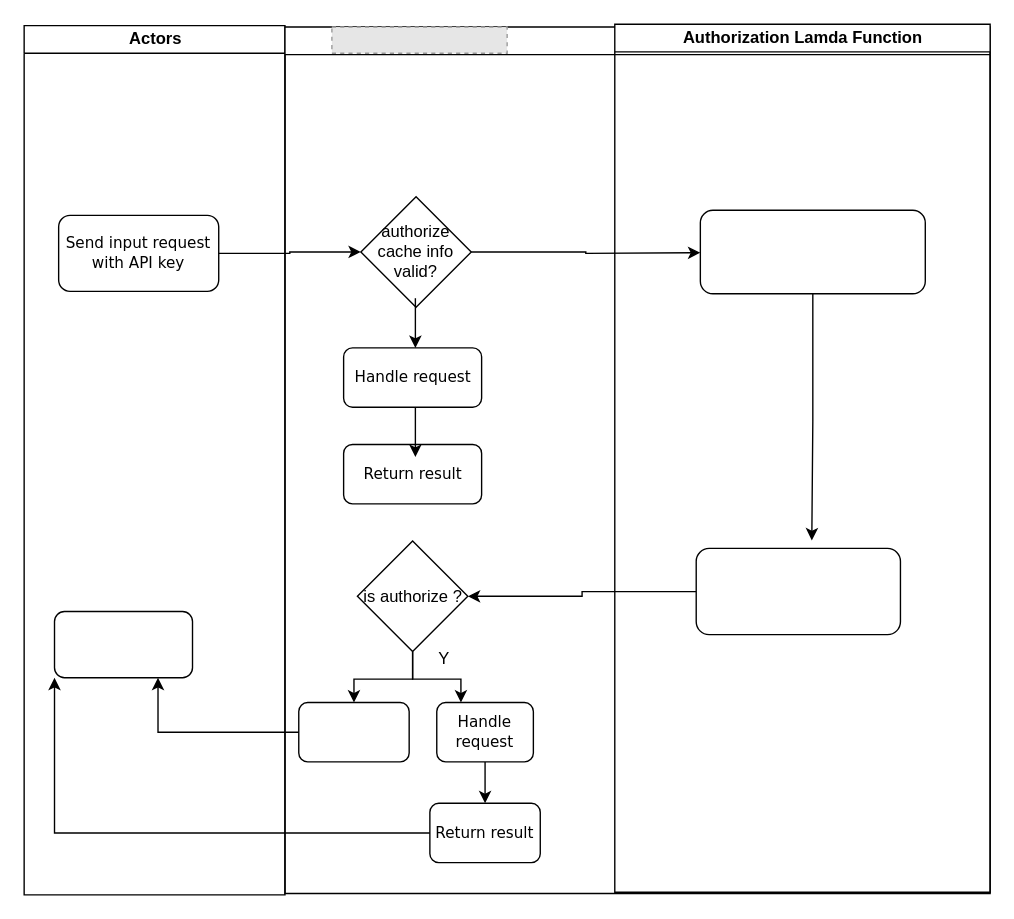
Some shapes in this 1014 by 919 pixel diagram are drawn without their labels. Grey dashed boxes stand in for pictures. The shapes that lost their labels are listed below. From the top down, each one's centre as x and y in pixels, then its label:
(x=812, y=251): Integrate with aws secret manager, verify API key, handle access grant
(x=797, y=591): Return authorize result
(x=123, y=644): Receive result
(x=353, y=731): Return authorize error
